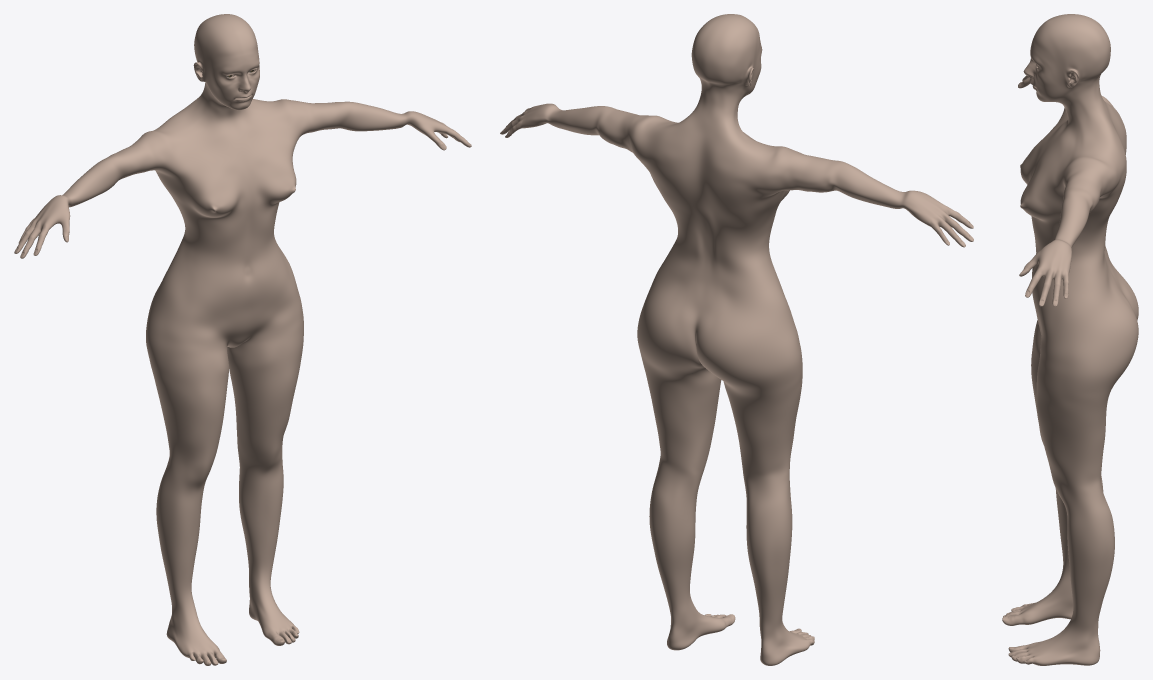
File: klothis_anatomy.glb
3 renders of one model, left to right at view 1: azimuth 30°, elevation 25°; view 2: azimuth 150°, elevation 25°; view 3: azimuth 270°, elevation 25°, orthographic. The views are drawn at different scales.
Parts seen in each view (by area): view 1: Anatomy; view 2: Anatomy; view 3: Anatomy.
Boxes of the visible parts, x1,y1,x2,y2 form: Anatomy: [14, 14, 471, 665]; Anatomy: [500, 14, 973, 665]; Anatomy: [1002, 14, 1138, 665].
Bounding box in the file's own units: 111 × 144 × 28.57.
